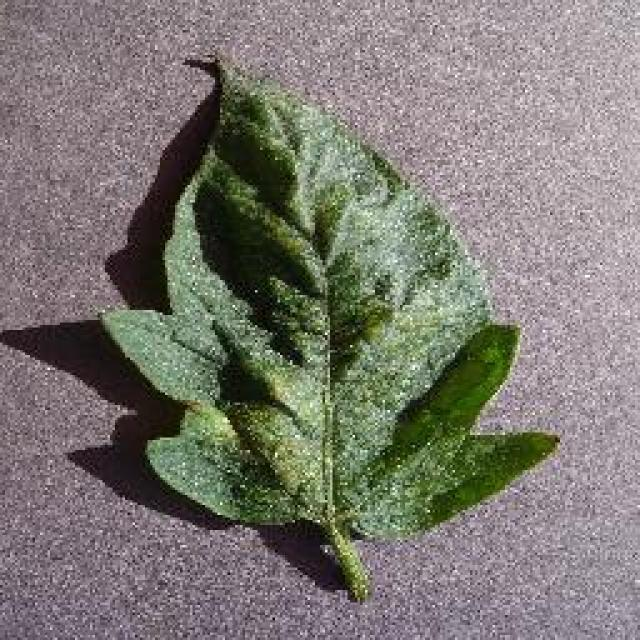Tomato___Spider_mites Two-spotted_spider_mite: (100, 60, 558, 598)
